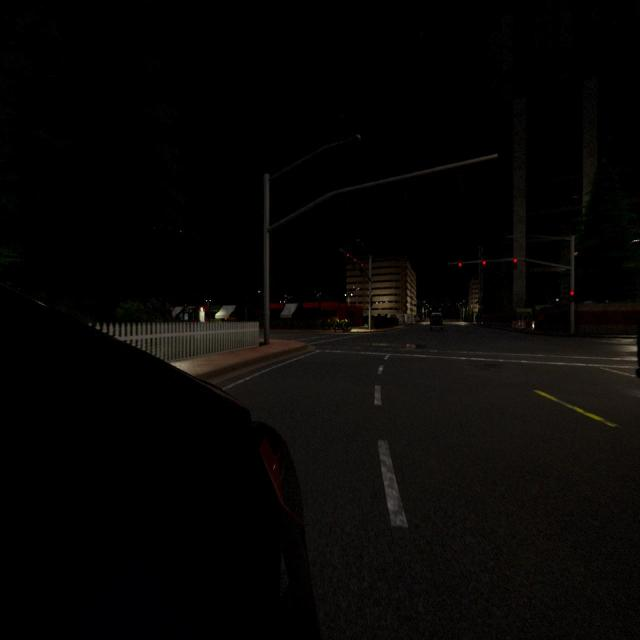Vehicle: (0, 288, 319, 640), (429, 312, 444, 331)
traffic_light: (482, 260, 486, 272), (570, 291, 574, 302), (513, 258, 517, 269), (458, 263, 462, 273), (361, 263, 364, 270), (347, 253, 349, 261), (354, 258, 356, 265)
